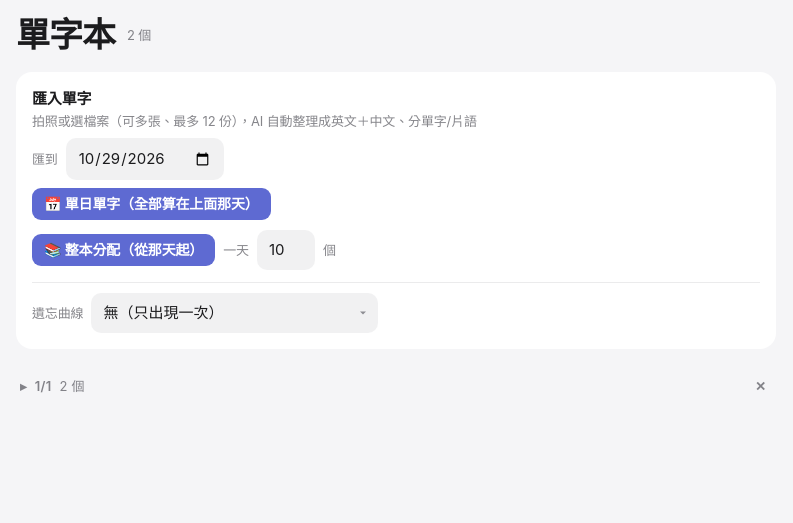
Test: 單字刪除失敗復原 › 整日部分刪除且重讀失敗時退回畫面並鎖住，重試只讀取
Click the button "✕": (761, 386) [749,371,772,402]
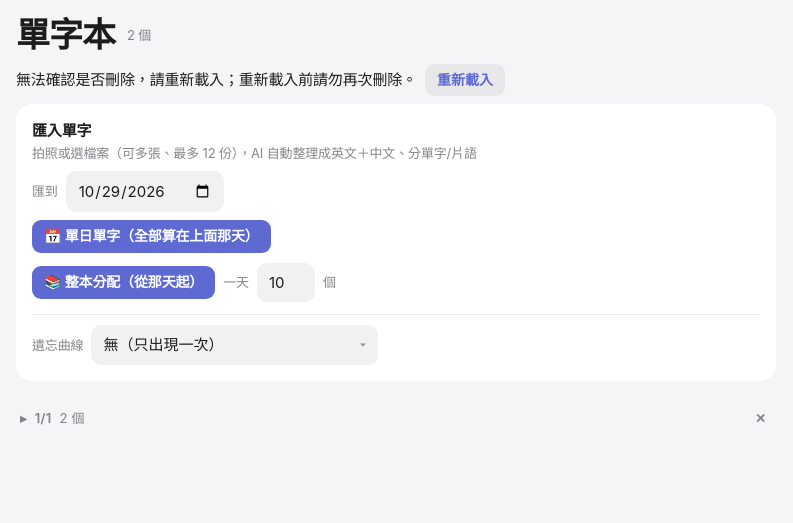
Check: the message shows "無法確認是否刪除", box [16,70,417,89]
Click the text "1/1": (23, 418) [16,399,776,442]
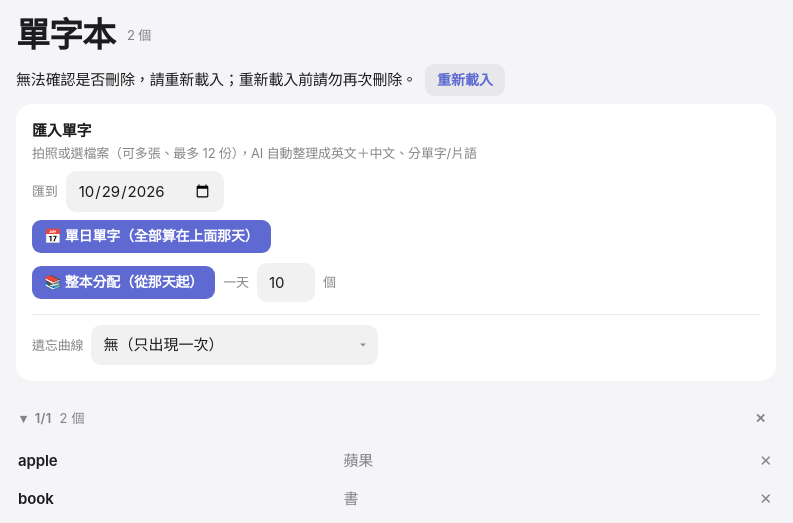
Check: the text "apple" is shown, box [18,451,57,470]
Check: the button named "刪除「apple」" is disabled, box [757,448,774,474]
Click the button "重新載入": (465, 80) [425,64,505,96]
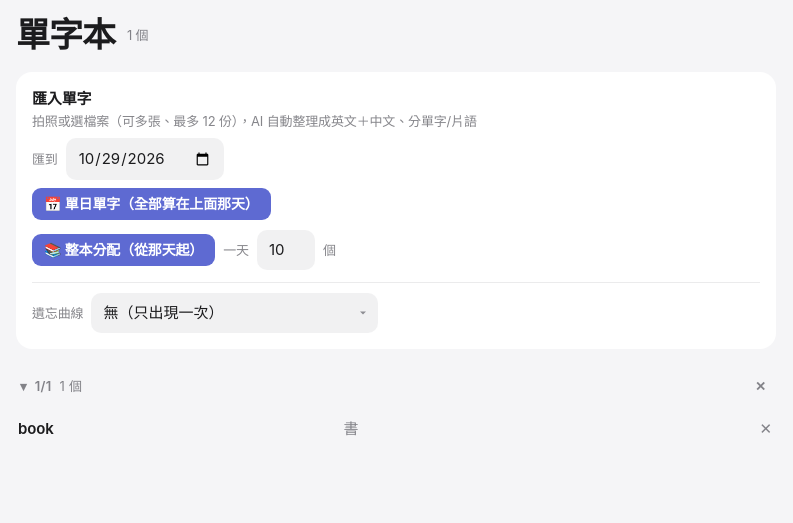
Check: the text "book" is shown, box [18,419,54,438]
Check: the message "無法確認是否刪除，請重新載入；重新載入前請勿再次刪除。 重新載入" is gone
Check: the text "apple" is gone
